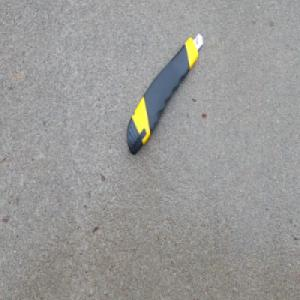Cutter: (126, 32, 204, 157)
